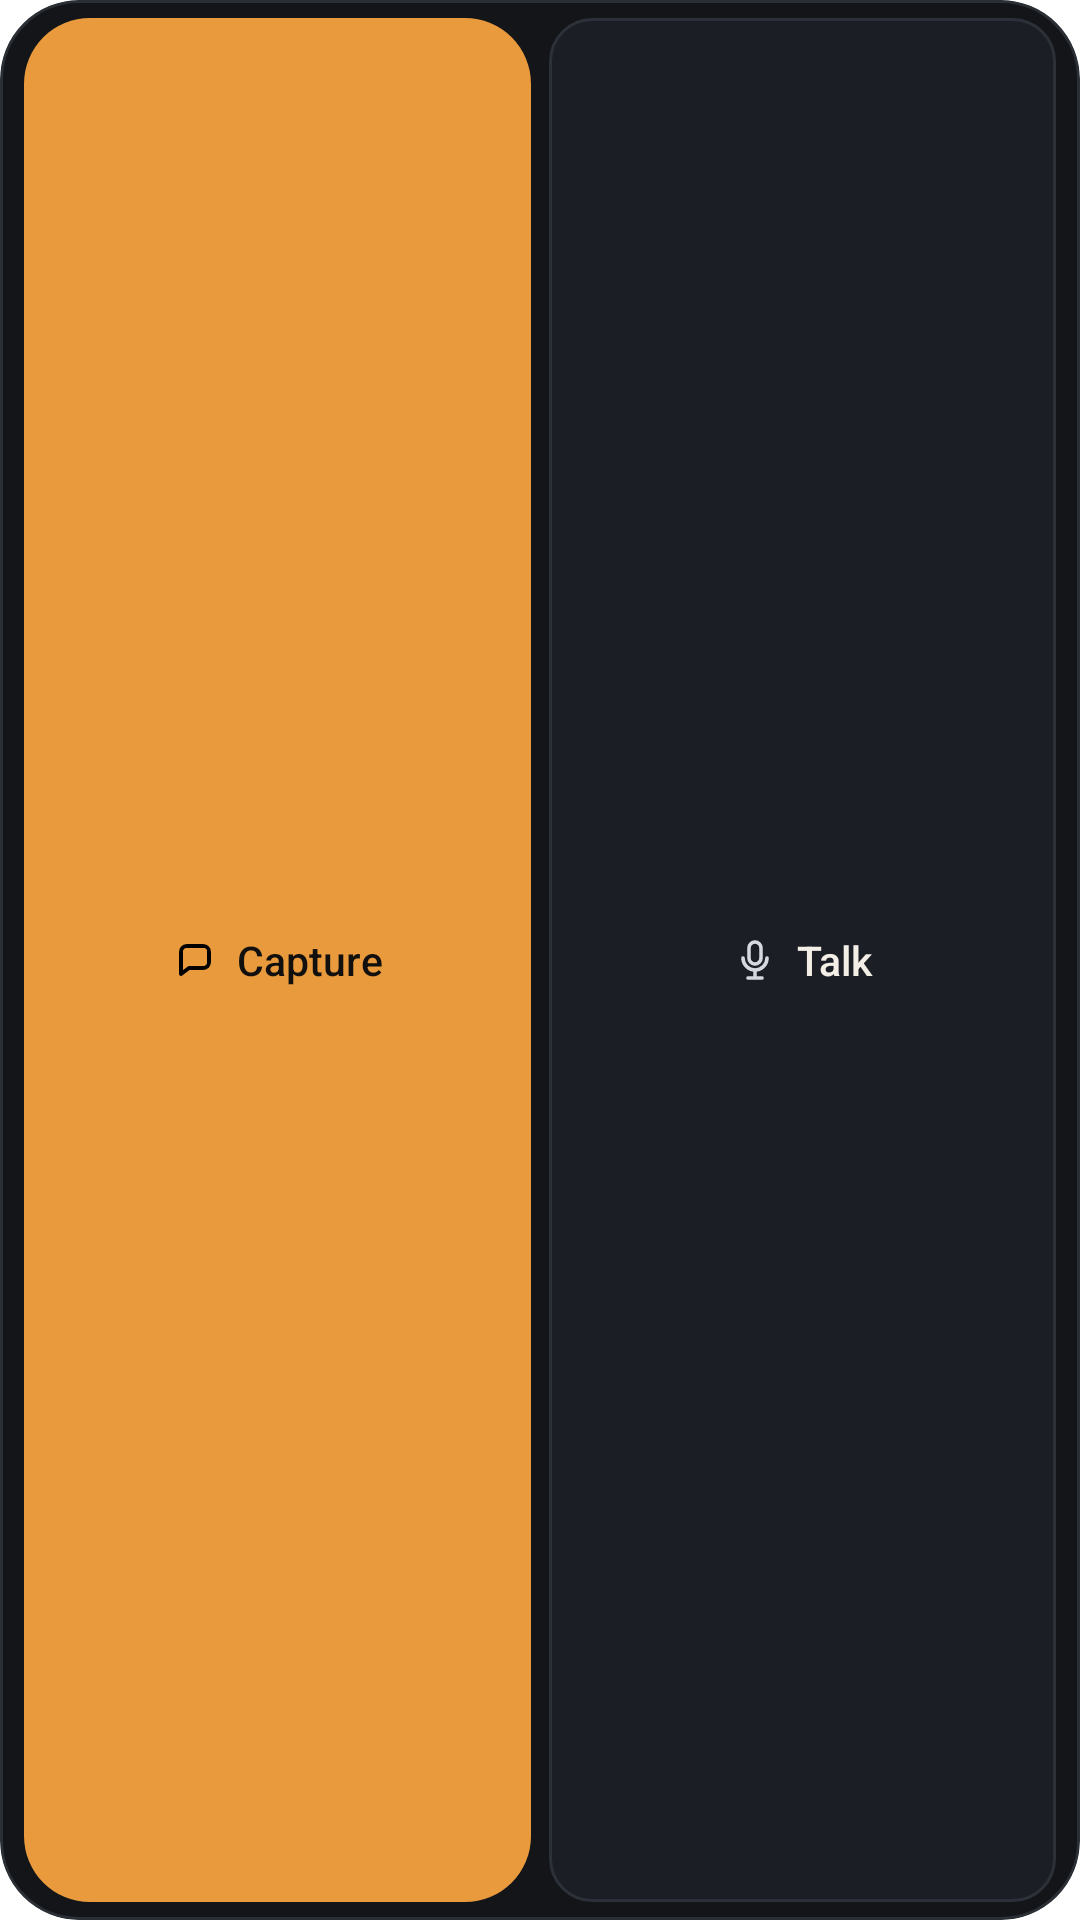

Locate icon controls on the screen. Image size 1080×1920, boxes as (x1, y1, x2, y2).
widget chat: (179, 944, 211, 976)
widget mic: (741, 940, 769, 980)
